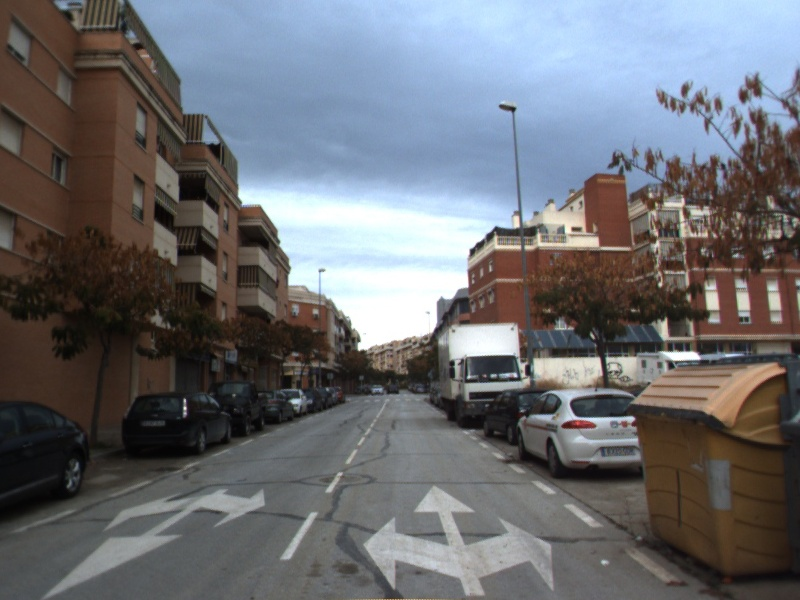STRAIGHT_LEFT_RIGHT: (360, 480, 557, 598)
